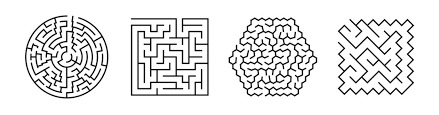maze: (25, 14, 109, 100), (229, 18, 318, 97), (130, 16, 211, 96), (337, 17, 415, 96)
